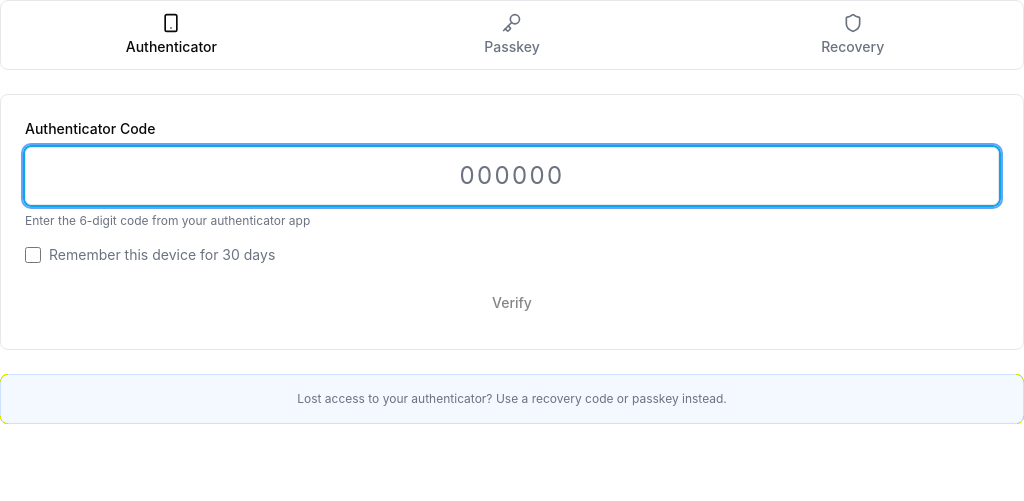
Test: TwoFactorVerification › Method Switching › should clear error when switching methods
// Trigger error on TOTP
Type "123456" into the field with placeholder "000000" at (512,176), box [25,147,999,205]
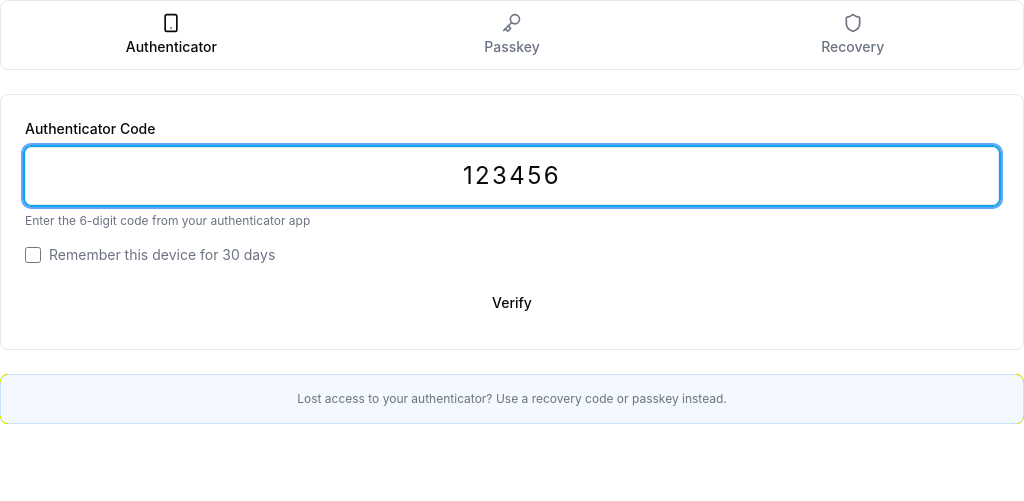
Click the button "Verify" at (512,303), box [25,281,999,325]
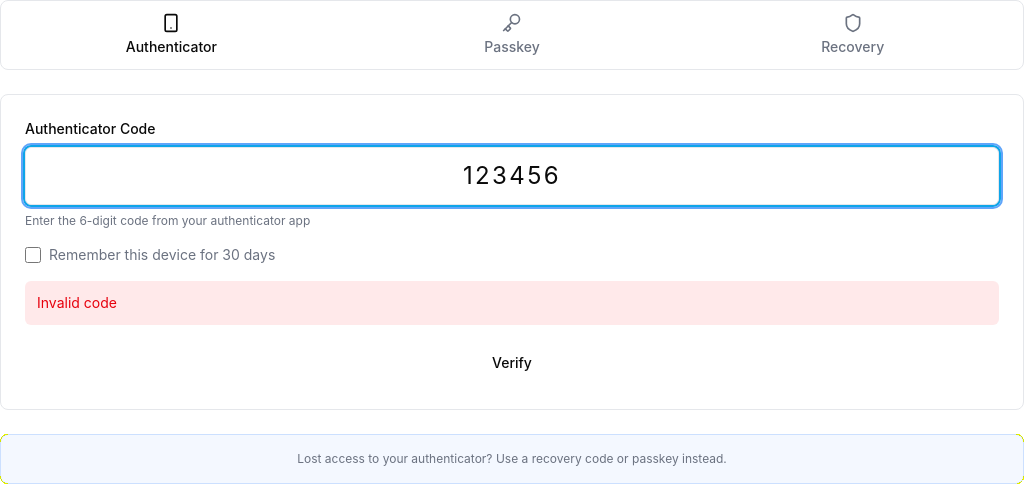
Expected: the text "Invalid code" is shown, [25,281,999,325]
// Switch to WebAuthn - error should clear
Click the button "Passkey" at (512,35), box [346,5,678,65]
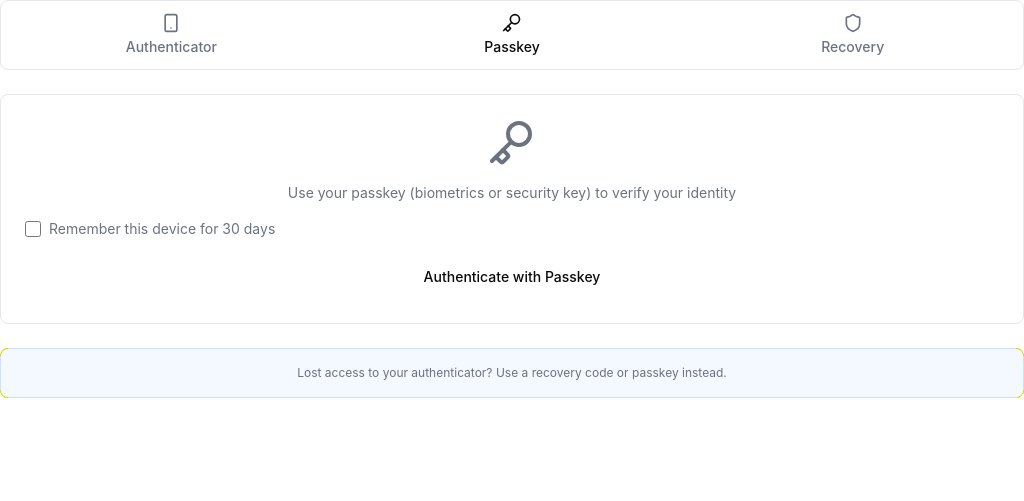
Expected: the text "Invalid code" is gone
